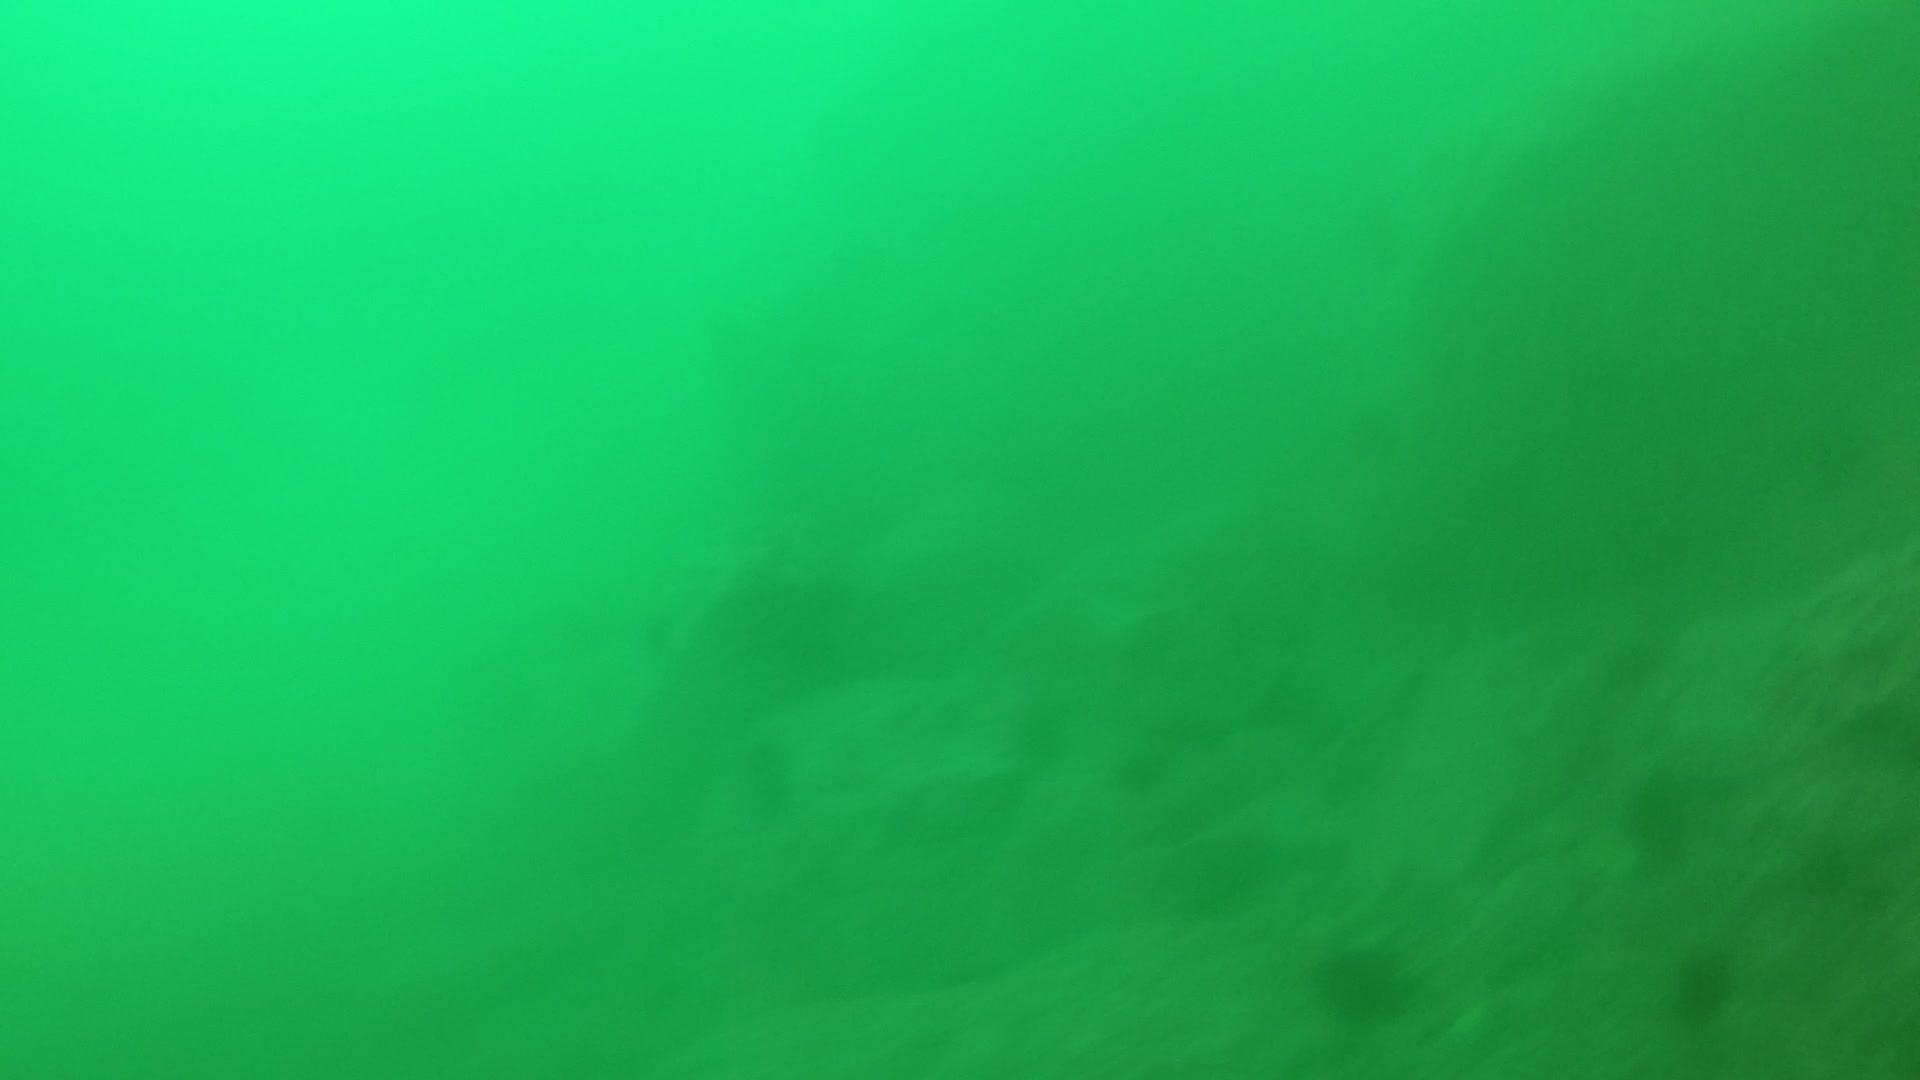echinus: (1309, 930, 1415, 1025), (1618, 766, 1701, 862), (1662, 939, 1742, 1025), (732, 731, 802, 816), (1007, 695, 1073, 765), (1106, 741, 1174, 799), (1341, 400, 1408, 458)
